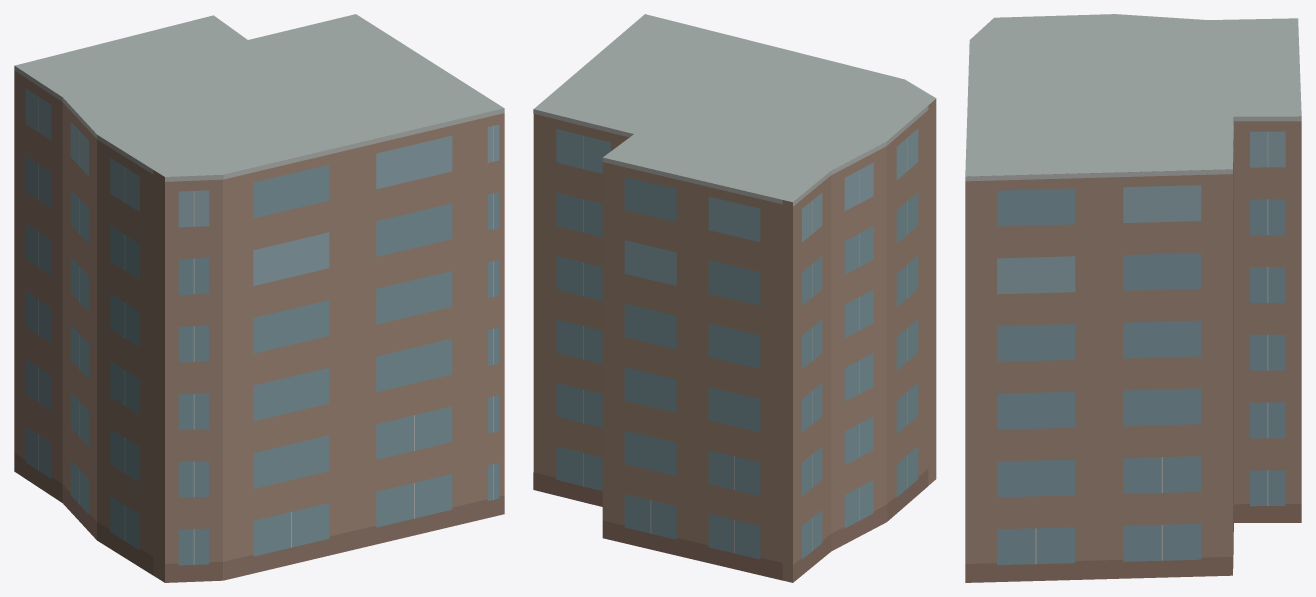
Rendered from survey-upis-32481878.glb.
3 renders of one model, left to right at view 1: azimuth 30°, elevation 25°; view 2: azimuth 150°, elevation 25°; view 3: azimuth 270°, elevation 25°, orthographic. The views are drawn at different scales.
Visible parts, largest first — view 1: survey-upis-32481878.tmp; view 2: survey-upis-32481878.tmp; view 3: survey-upis-32481878.tmp.
Part boxes in pixels (box(x1,y1,x2,y2)): survey-upis-32481878.tmp: box(14, 14, 504, 582); survey-upis-32481878.tmp: box(533, 14, 936, 582); survey-upis-32481878.tmp: box(965, 14, 1301, 582).
Bounding box in the file's own units: 17.72 × 20.65 × 15.5.
